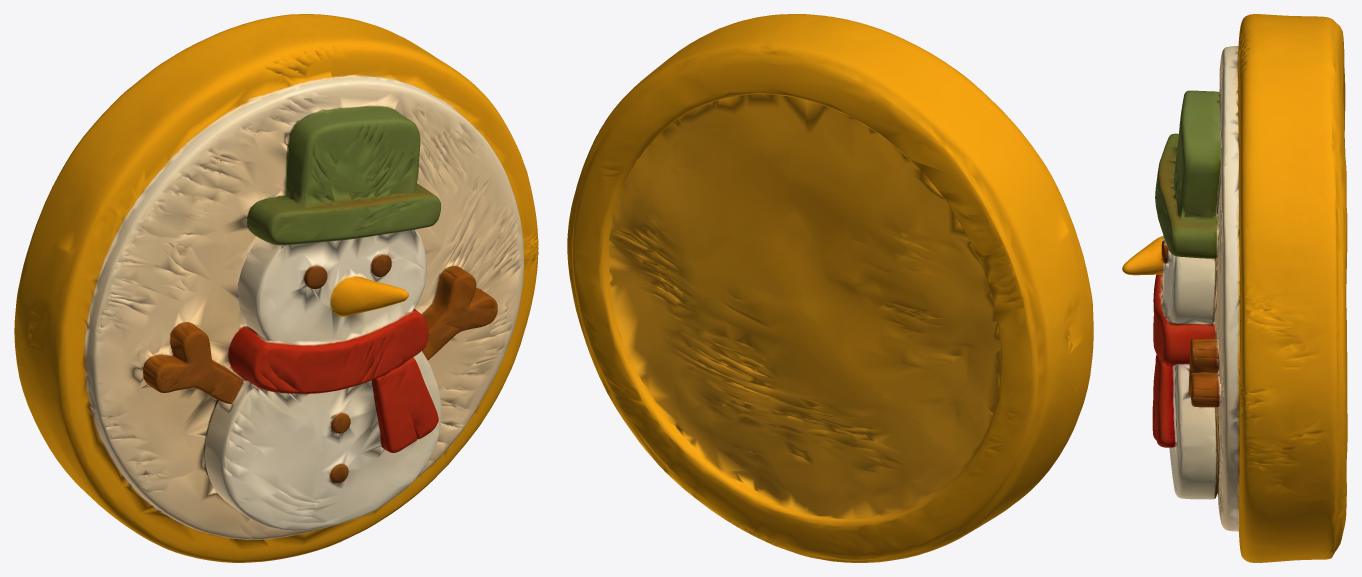
Rendered from vending-snowman-button-web.glb.
The picture shows the model from 3 angles, left to right: view 1: azimuth 30°, elevation 25°; view 2: azimuth 150°, elevation 25°; view 3: azimuth 270°, elevation 25°; orthographic projection. The views are drawn at different scales.
Parts seen in each view (by area): view 1: tripo_node_9f4205b9-87ee-4fcd-9957-cde6f2be7d14; view 2: tripo_node_9f4205b9-87ee-4fcd-9957-cde6f2be7d14; view 3: tripo_node_9f4205b9-87ee-4fcd-9957-cde6f2be7d14.
Boxes of the visible parts, x1,y1,x2,y2 form: tripo_node_9f4205b9-87ee-4fcd-9957-cde6f2be7d14: (14,14,538,562); tripo_node_9f4205b9-87ee-4fcd-9957-cde6f2be7d14: (567,14,1093,562); tripo_node_9f4205b9-87ee-4fcd-9957-cde6f2be7d14: (1122,14,1347,562).
Bounding box in the file's own units: 0.9789 × 0.9799 × 0.4022.
1 material, 1 textured.
